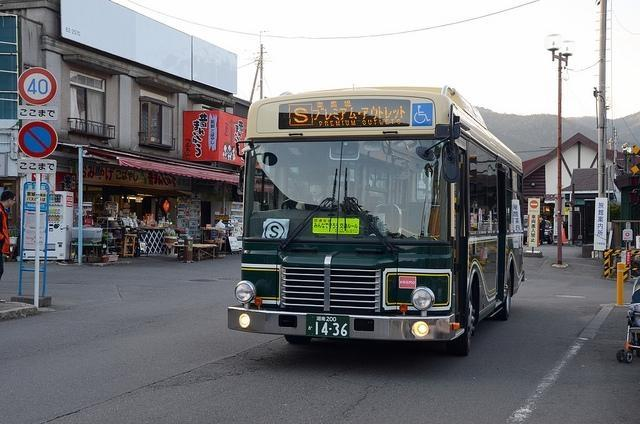bus: (231, 86, 524, 356)
car: (544, 220, 555, 244)
